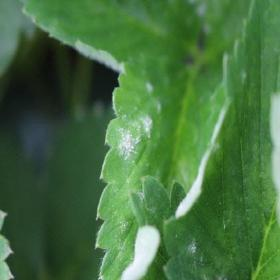Powdery Mildew Leaf: (162, 0, 279, 279), (96, 57, 225, 279), (21, 0, 204, 73), (122, 175, 189, 279)
